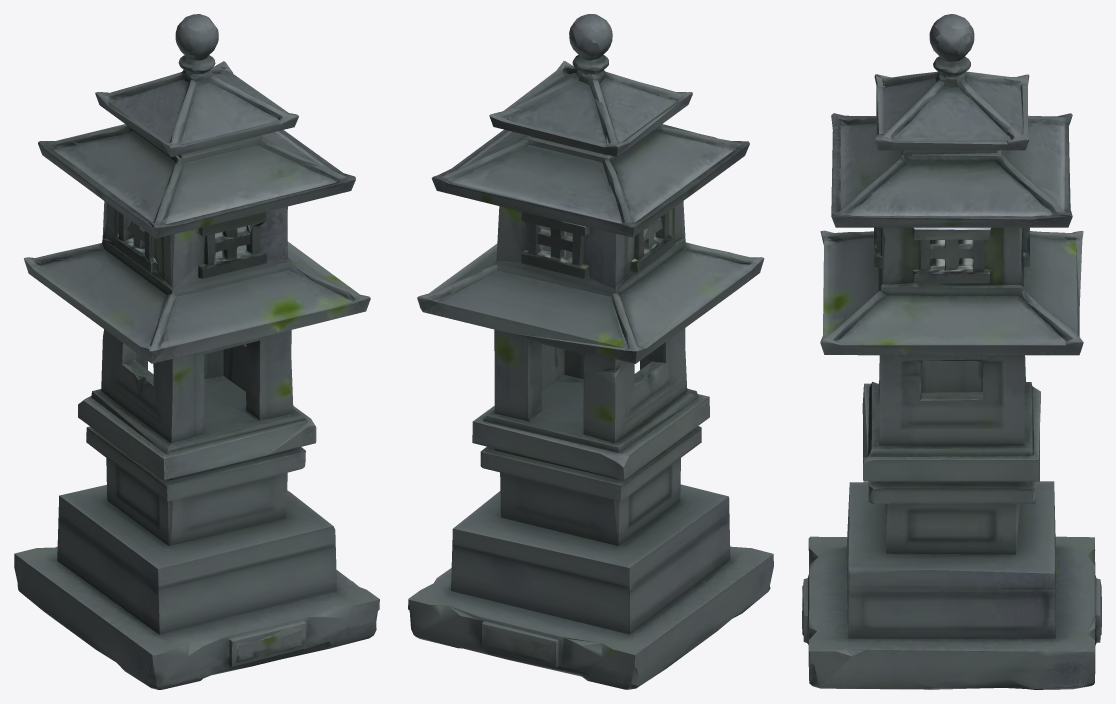
Rendered from ishidoro.glb.
The picture shows the model from 3 angles, left to right: view 1: azimuth 30°, elevation 25°; view 2: azimuth 150°, elevation 25°; view 3: azimuth 270°, elevation 25°; orthographic projection. The views are drawn at different scales.
Size of the model in its own units: 0.7574 by 1.9 by 0.8354.
1 material, 1 textured.
